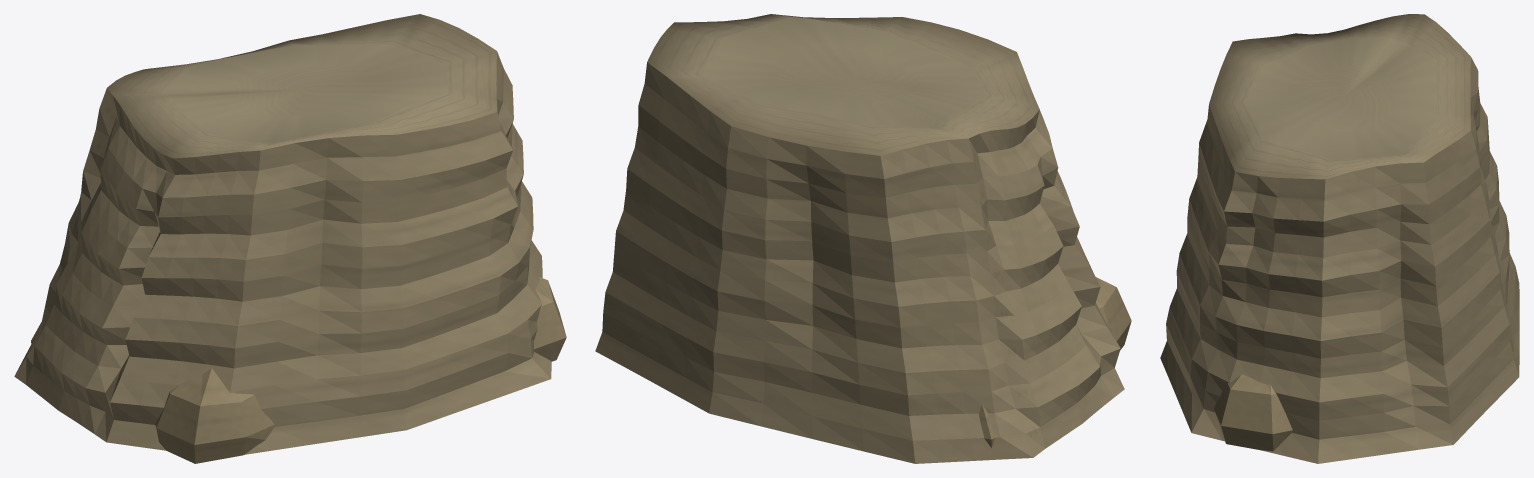
Rendered from cliff-sandstone-lod0.glb.
The picture shows the model from 3 angles, left to right: view 1: azimuth 30°, elevation 25°; view 2: azimuth 150°, elevation 25°; view 3: azimuth 270°, elevation 25°; orthographic projection. The views are drawn at different scales.
Bounding box in the file's own units: 0.5184 × 0.297 × 0.3605.
1 material, 1 textured.
